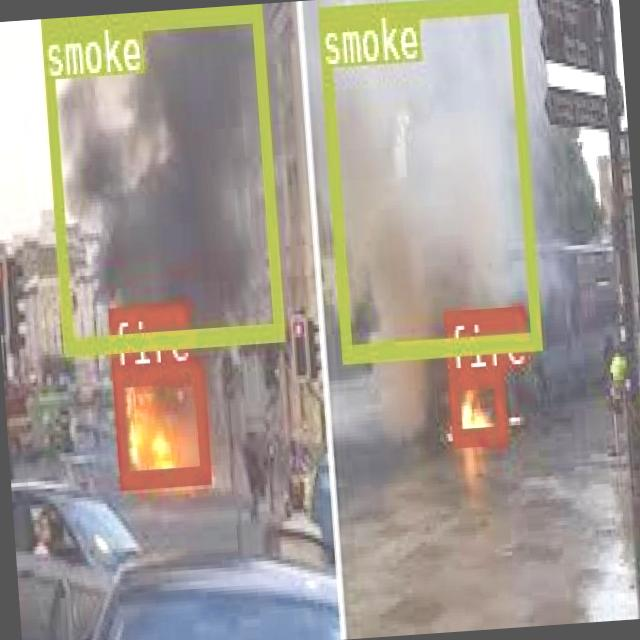fire: (111, 359, 208, 485), (447, 367, 505, 442)
smoke: (38, 4, 282, 354), (316, 0, 537, 359)
